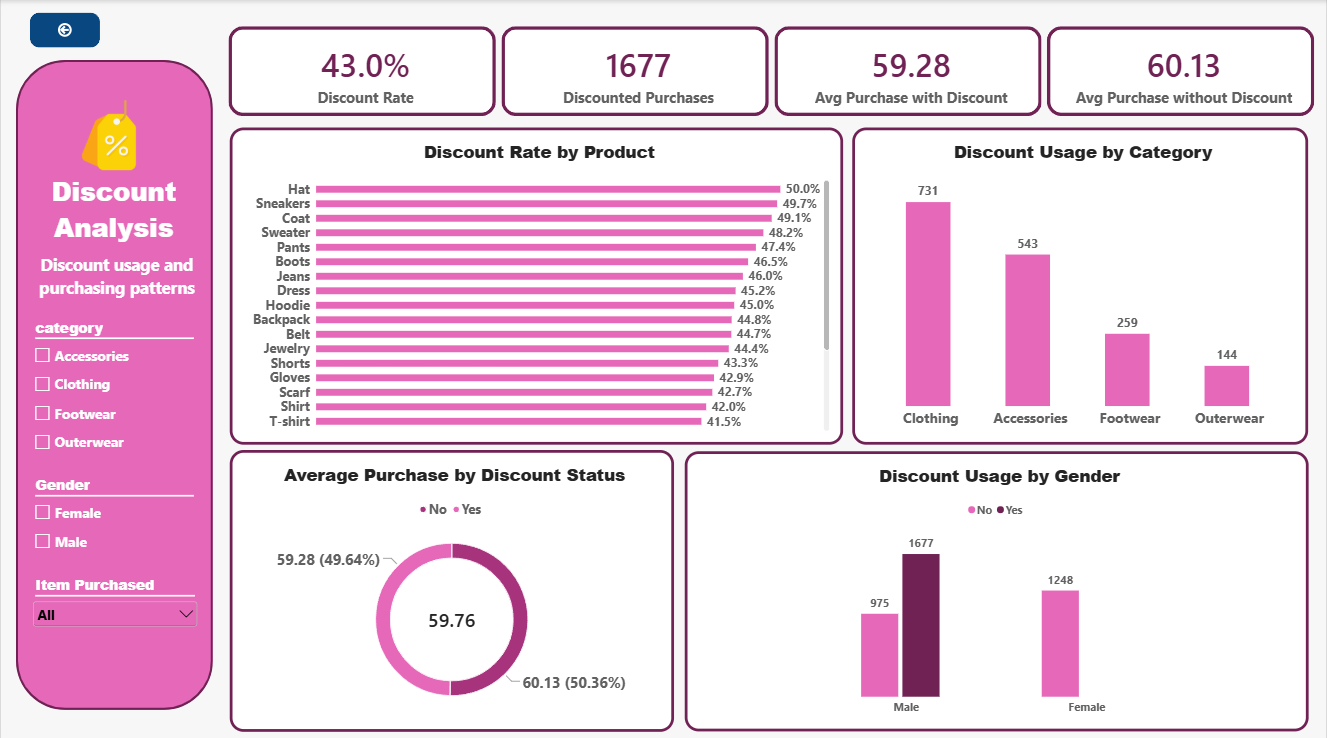

Layout of this report page (visuals, bound fields, positions):
{"tool":"powerbi","page":{"name":"Discount Analysis","canvas":[1920,1080],"ordinal":4},"visuals":[{"type":"shape","box":[22.4,87.6,285.1,940.9],"z":0},{"type":"textbox","box":[38.7,250.5,250.5,130.3],"z":1000},{"type":"textbox","box":[42.8,366.6,248.5,95.7],"z":2000},{"type":"actionButton","box":[40.7,18.3,101.8,50.9],"z":2001},{"type":"cardVisual","fields":{"Data":["public customer.Discount Rate","public customer.Discounted Purchases","public customer.Avg Purchase with Discount","public customer.Avg Purchase without Discount"]},"box":[329.9,38.7,1572.2,130.3],"z":2002},{"type":"clusteredBarChart","title":"Discount Rate by Product","fields":{"Category":["public customer.item_purchased"],"Y":["public customer.Discount Rate"]},"box":[332,184,888.1,458.9],"z":2003},{"type":"clusteredColumnChart","title":"Discount Usage by Category","fields":{"Category":["public customer.category"],"Y":["public customer.Discounted Purchases"]},"box":[1232.8,184,659.7,458.9],"z":2004},{"type":"donutChart","title":"Average Purchase by Discount Status","fields":{"Category":["public customer.discount_applied"],"Y":["Avg(public customer.purchase_amount)"]},"box":[332,651.3,642.8,408.1],"z":2005},{"type":"image","box":[71.3,144.6,171.1,101.8],"z":2006},{"type":"slicer","fields":{"Values":["public customer.category"]},"box":[42.3,458.9,245.3,209.3],"z":2008},{"type":"slicer","fields":{"Values":["public customer.item_purchased"]},"box":[42.3,833.1,247.4,105.7],"z":2009},{"type":"slicer","fields":{"Values":["public customer.gender"]},"box":[42.3,687.2,245.3,116.3],"z":2010},{"type":"clusteredColumnChart","title":"Discount Usage by Gender","fields":{"Category":["public customer.gender"],"Series":["public customer.discount_applied"],"Y":["public customer.Number of Customers"]},"box":[989.6,653.4,902.9,406],"z":2011}]}

Visuals, with their boxes in screenshot pixels (x1, y1, x2, y2), scaled from the page's 1920x1080 canvas onto the 1327x738 screenshot:
shape: {"x1": 15, "y1": 60, "x2": 213, "y2": 703}
textbox: {"x1": 27, "y1": 171, "x2": 200, "y2": 260}
textbox: {"x1": 30, "y1": 251, "x2": 201, "y2": 316}
actionButton: {"x1": 28, "y1": 13, "x2": 98, "y2": 47}
cardVisual - public customer.Discount Rate x public customer.Discounted Purchases: {"x1": 228, "y1": 26, "x2": 1315, "y2": 115}
"Discount Rate by Product" clusteredBarChart: {"x1": 229, "y1": 126, "x2": 843, "y2": 439}
"Discount Usage by Category" clusteredColumnChart: {"x1": 852, "y1": 126, "x2": 1308, "y2": 439}
"Average Purchase by Discount Status" donutChart: {"x1": 229, "y1": 445, "x2": 674, "y2": 724}
image: {"x1": 49, "y1": 99, "x2": 168, "y2": 168}
slicer - public customer.category: {"x1": 29, "y1": 314, "x2": 199, "y2": 457}
slicer - public customer.item_purchased: {"x1": 29, "y1": 569, "x2": 200, "y2": 642}
slicer - public customer.gender: {"x1": 29, "y1": 470, "x2": 199, "y2": 549}
"Discount Usage by Gender" clusteredColumnChart: {"x1": 684, "y1": 446, "x2": 1308, "y2": 724}
